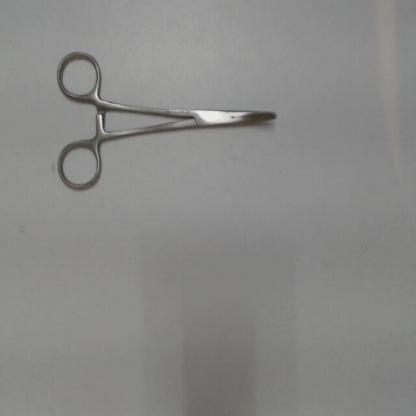Crile Artery Forceps: (55, 42, 286, 192)
